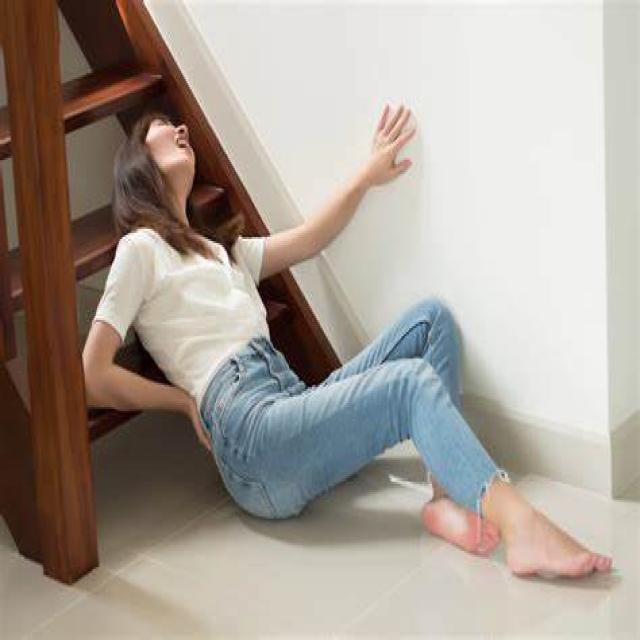lie: (115, 116, 602, 593)
